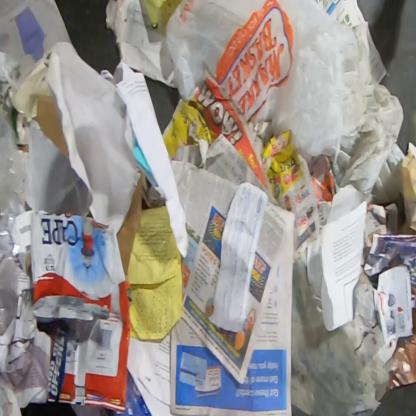cardboard: (104, 0, 182, 91), (117, 169, 148, 276), (32, 96, 69, 160)
soft_plastic: (164, 0, 361, 179), (29, 209, 132, 415), (0, 114, 30, 338)
